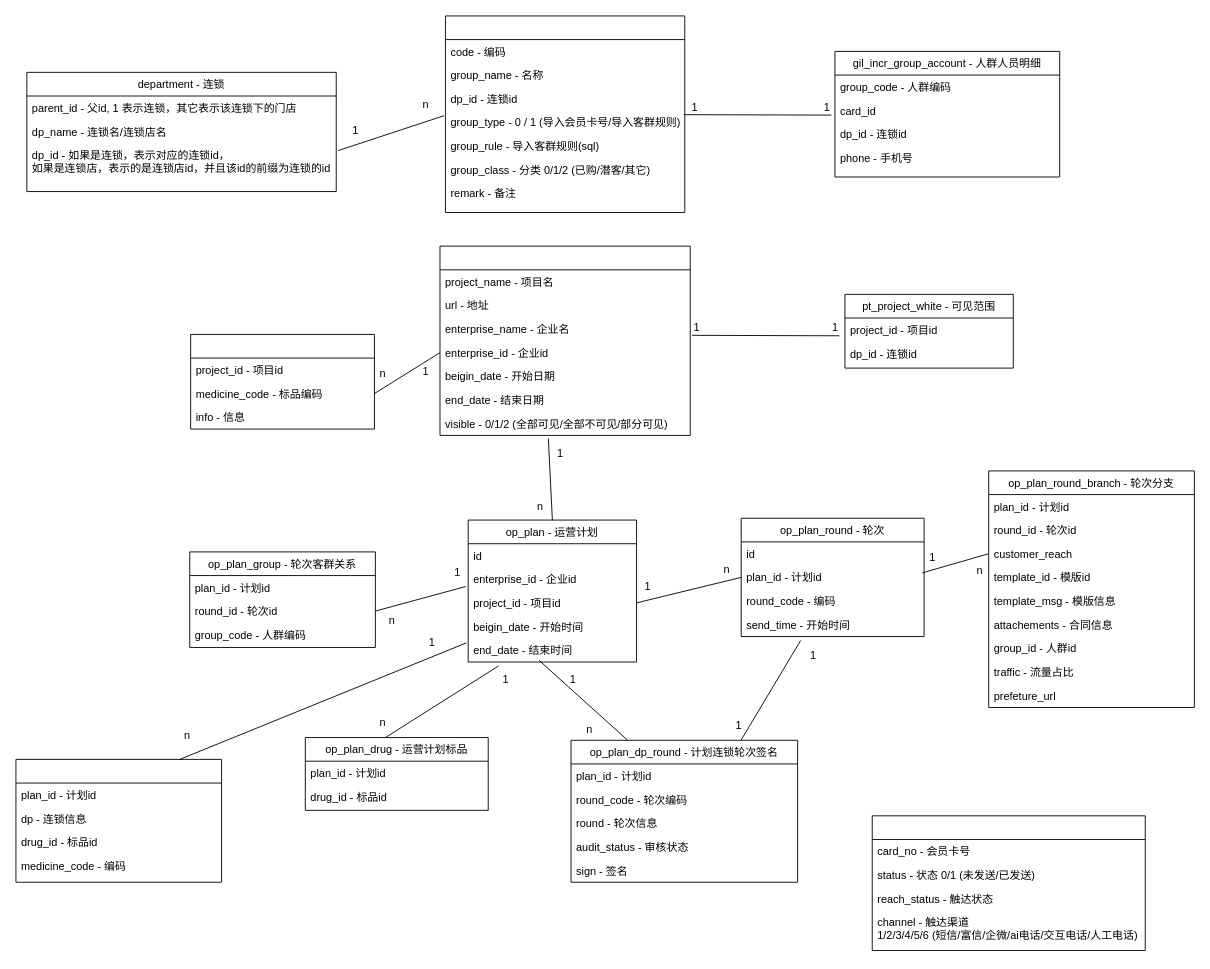
Some shapes in this 1210 by 969 pixel diagram are drawn without their labels. Here are the shapes that lost their labels. From the top down, the box of each, then its label:
(445, 15, 685, 212): glt_incr_group - 人群
(439, 245, 690, 435): pt_project - 项目
(190, 334, 374, 429): pt_project_drug - 标品信息
(15, 758, 222, 882): op_plan_dp_drug - 计划连锁标品
(871, 815, 1145, 950): op_plan_branch_member - 触达明细
